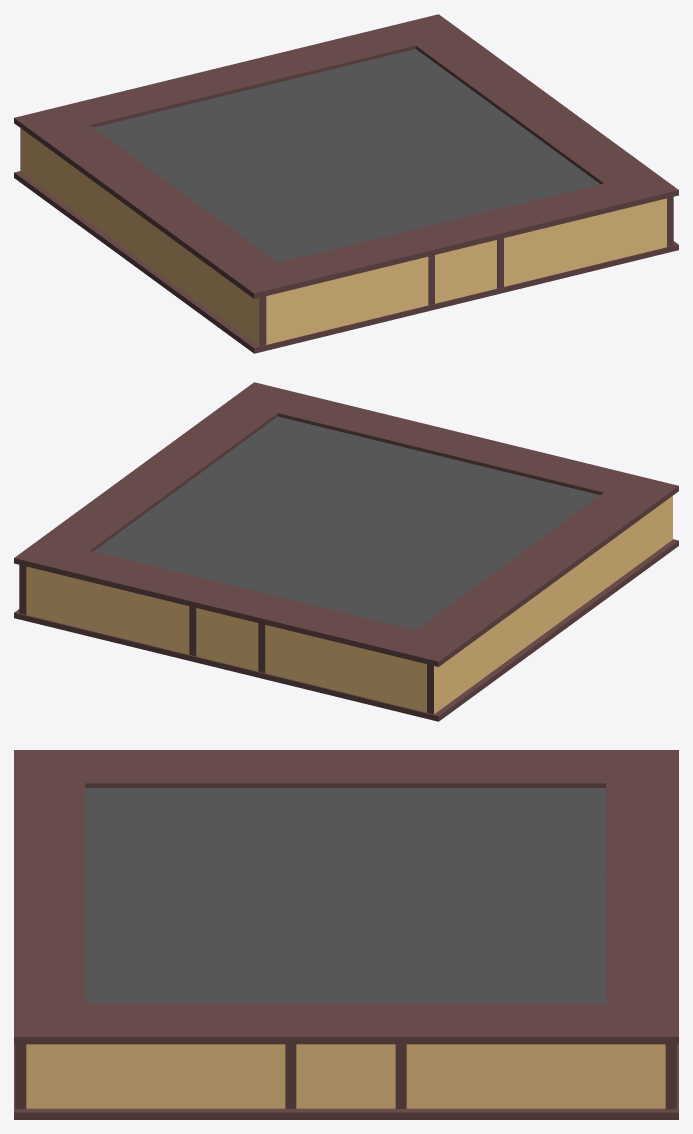
The model's file is Room_Build(1).fbx.
3 renders of one model, top to bottom at view 1: azimuth 30°, elevation 25°; view 2: azimuth 150°, elevation 25°; view 3: azimuth 270°, elevation 25°, orthographic. The views are drawn at different scales.
Parts seen in each view (by area): view 1: Floor.002, Cube.002, Walls, Cube.003; view 2: Floor.002, Cube.002, Walls, Cube.003; view 3: Floor.002, Cube.002, Walls, Cube.003, Cube.004, Cube.009, Cube.024, Cube.025.
Part boxes in pixels (left/top/right/bottom): Floor.002: left=93, top=49, right=599, bottom=262; Cube.002: left=14, top=14, right=678, bottom=298; Walls: left=20, top=128, right=666, bottom=346; Cube.003: left=14, top=171, right=678, bottom=353; Floor.002: left=93, top=416, right=599, bottom=630; Cube.002: left=14, top=382, right=678, bottom=666; Walls: left=26, top=496, right=672, bottom=713; Cube.003: left=14, top=539, right=678, bottom=721; Floor.002: left=85, top=788, right=605, bottom=1003; Cube.002: left=14, top=750, right=678, bottom=1044; Walls: left=26, top=1044, right=665, bottom=1108; Cube.003: left=14, top=1044, right=678, bottom=1119; Cube.004: left=15, top=1044, right=26, bottom=1109; Cube.009: left=665, top=1044, right=676, bottom=1109; Cube.024: left=285, top=1044, right=296, bottom=1108; Cube.025: left=395, top=1044, right=406, bottom=1108.
Bounding box in the file's own units: 2464 × 333 × 2414.
